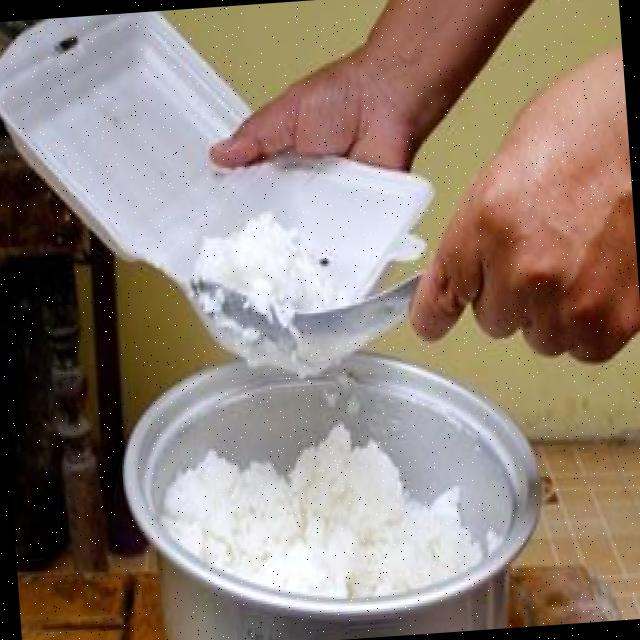styrofoam: (0, 0, 447, 393)
